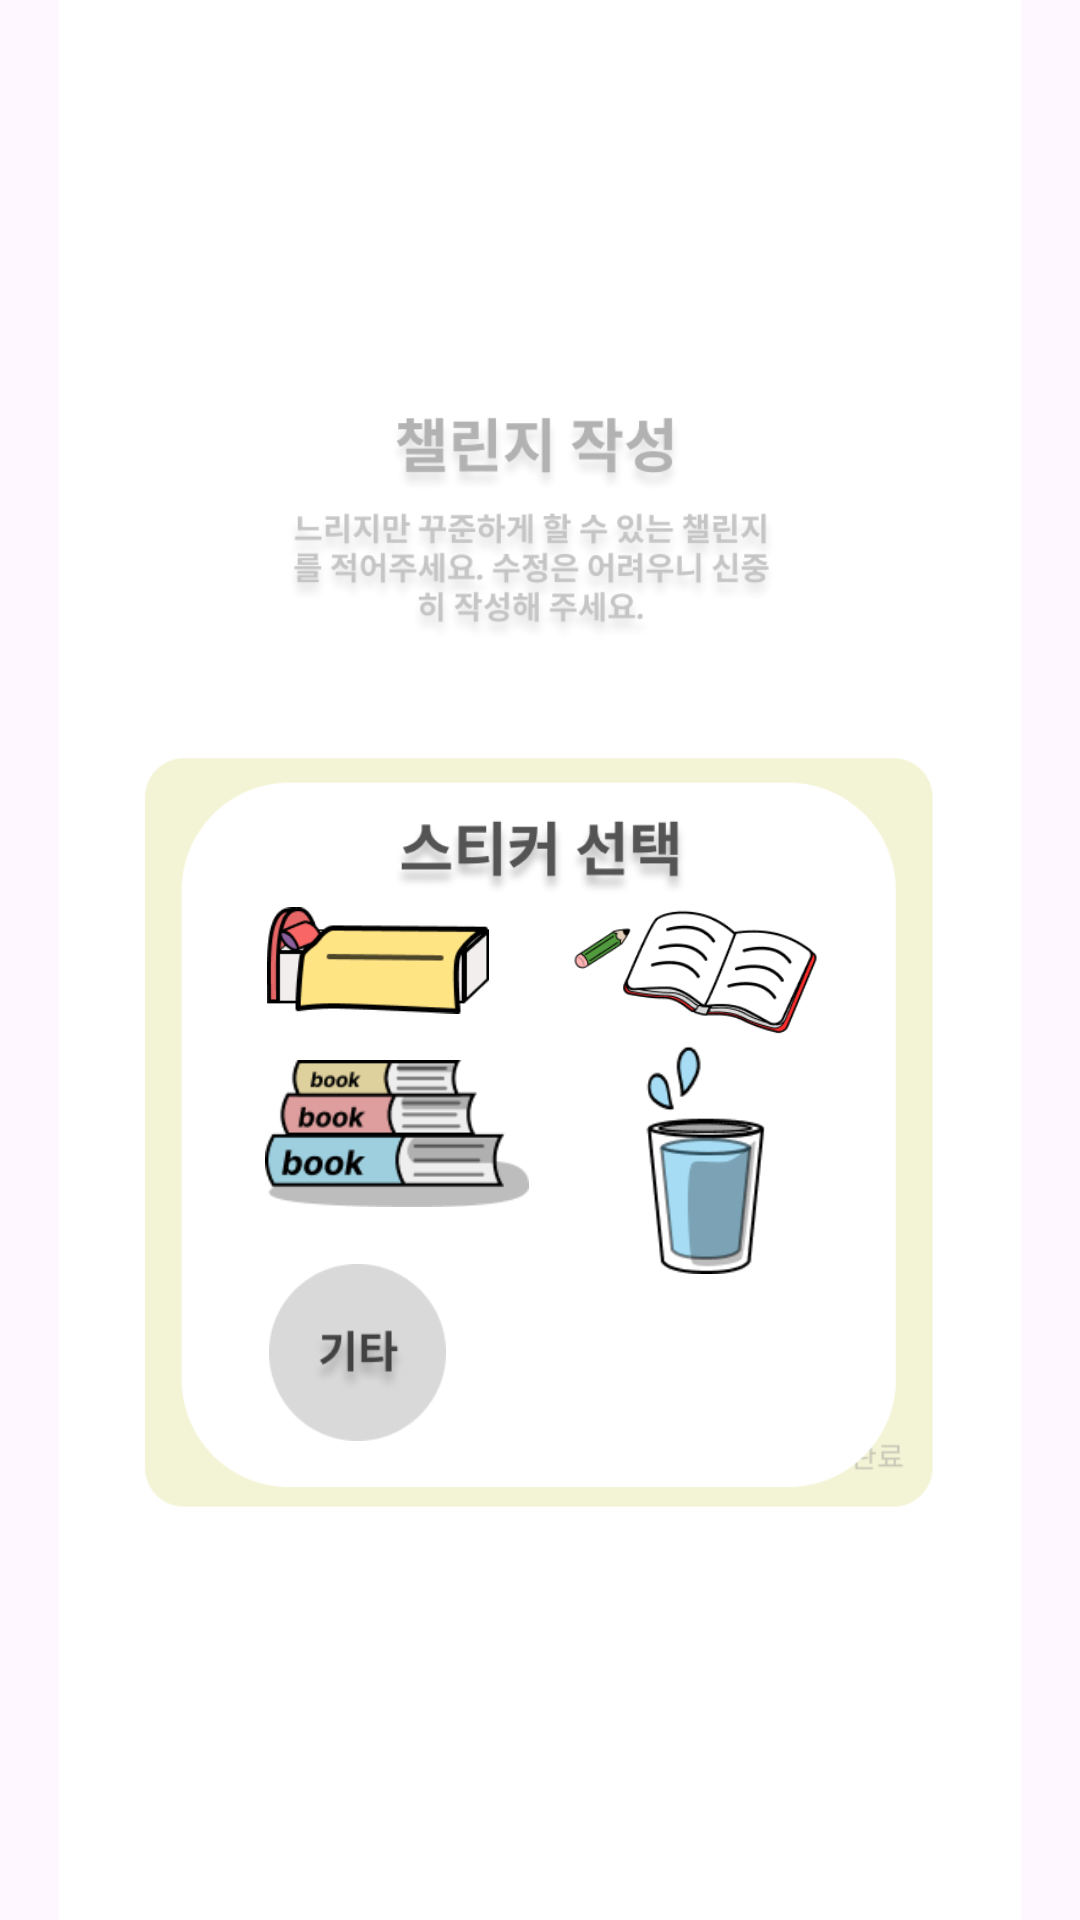

Where icons sit on this 1080×1920 app screen, as [left=x1, top=y1, right=x2, bottom=y2]:
challenge sticker bed: [left=267, top=907, right=489, bottom=1014]
challenge sticker notebook: [left=574, top=910, right=817, bottom=1033]
challenge sticker water: [left=646, top=1046, right=765, bottom=1274]
